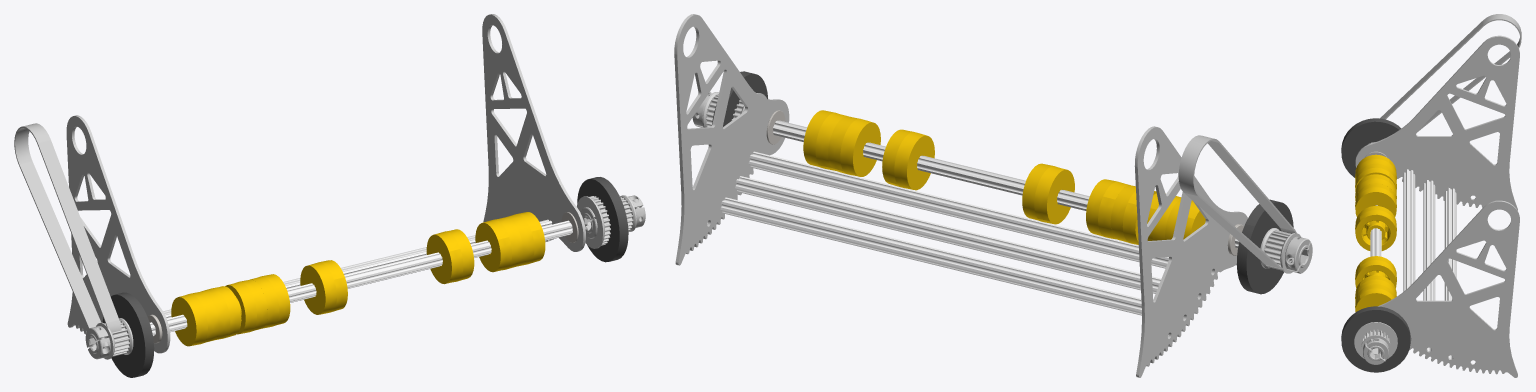
The picture shows the model from 3 angles, left to right: view 1: azimuth 30°, elevation 25°; view 2: azimuth 150°, elevation 25°; view 3: azimuth 270°, elevation 25°; orthographic projection. The views are drawn at different scales.
Parts seen in each view (by area): view 1: empty_11, empty_3, empty_47, empty_2, empty_19, empty_21, empty_40, empty_15, empty_6, empty_42, empty_46, empty_13 (+5 smaller); view 2: empty_11, empty_3, empty_10, empty_9, empty_18, empty_47, empty_2, empty_19, empty_40, empty_6, empty_42, empty_8 (+10 smaller); view 3: empty_3, empty_11, empty_21, empty_19, empty_18, empty_47, empty_9, empty_10, empty_42, empty_17, empty_44, empty_41 (+13 smaller).
Part boxes in pixels (box(x1,y1,x2,y2)): empty_11: box(482, 14, 585, 251); empty_3: box(66, 115, 170, 353); empty_47: box(14, 123, 121, 332); empty_2: box(150, 220, 572, 336); empty_19: box(102, 292, 154, 377); empty_21: box(577, 177, 628, 262); empty_40: box(426, 229, 474, 284); empty_15: box(171, 291, 218, 346); empty_6: box(475, 217, 522, 272); empty_42: box(300, 260, 347, 314); empty_46: box(225, 279, 267, 334); empty_13: box(201, 286, 241, 340); empty_11: box(674, 14, 789, 265); empty_3: box(1134, 126, 1247, 377); empty_10: box(720, 197, 1183, 317); empty_9: box(735, 176, 1198, 295); empty_18: box(748, 151, 1211, 271); empty_47: box(1178, 135, 1296, 269); empty_2: box(773, 120, 1239, 247); empty_19: box(1236, 199, 1293, 294); empty_40: box(882, 129, 934, 190); empty_6: box(828, 116, 880, 176); empty_42: box(1022, 163, 1074, 224); empty_8: box(803, 110, 847, 170); empty_3: box(1355, 35, 1519, 210); empty_11: box(1378, 200, 1519, 377); empty_21: box(1341, 306, 1410, 372); empty_19: box(1341, 118, 1401, 177); empty_18: box(1403, 169, 1415, 339); empty_47: box(1380, 14, 1521, 131); empty_9: box(1423, 180, 1435, 351); empty_10: box(1444, 188, 1456, 358); empty_42: box(1355, 206, 1396, 250); empty_17: box(1354, 322, 1397, 358); empty_44: box(1355, 183, 1396, 216); empty_41: box(1359, 218, 1392, 247).
Size of the model in its own units: 0.6204 by 0.2376 by 0.2182.
